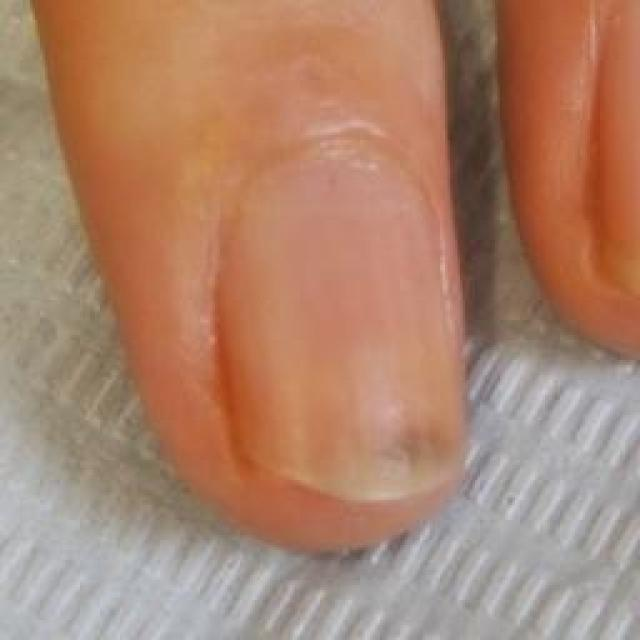Nail: (219, 148, 465, 501)
